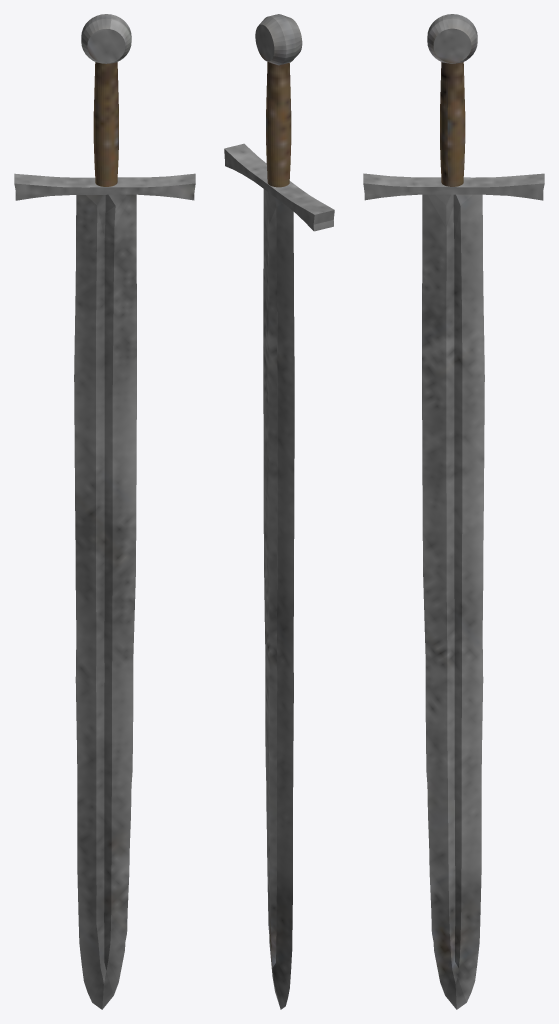
Rendered from sword.fbx.
3 renders of one model, left to right at view 1: azimuth 90°, elevation 25°; view 2: azimuth 210°, elevation 25°; view 3: azimuth 270°, elevation 25°, orthographic.
Parts seen in each view (by area): view 1: Plane; view 2: Plane; view 3: Plane.
Part boxes in pixels (x1,y1,x2,y2): Plane: [14, 14, 195, 1009]; Plane: [224, 14, 334, 1009]; Plane: [363, 14, 544, 1009].
Bounding box in the file's own units: 33.62 × 1142 × 189.
Materials: 2 (2 with a texture image).
